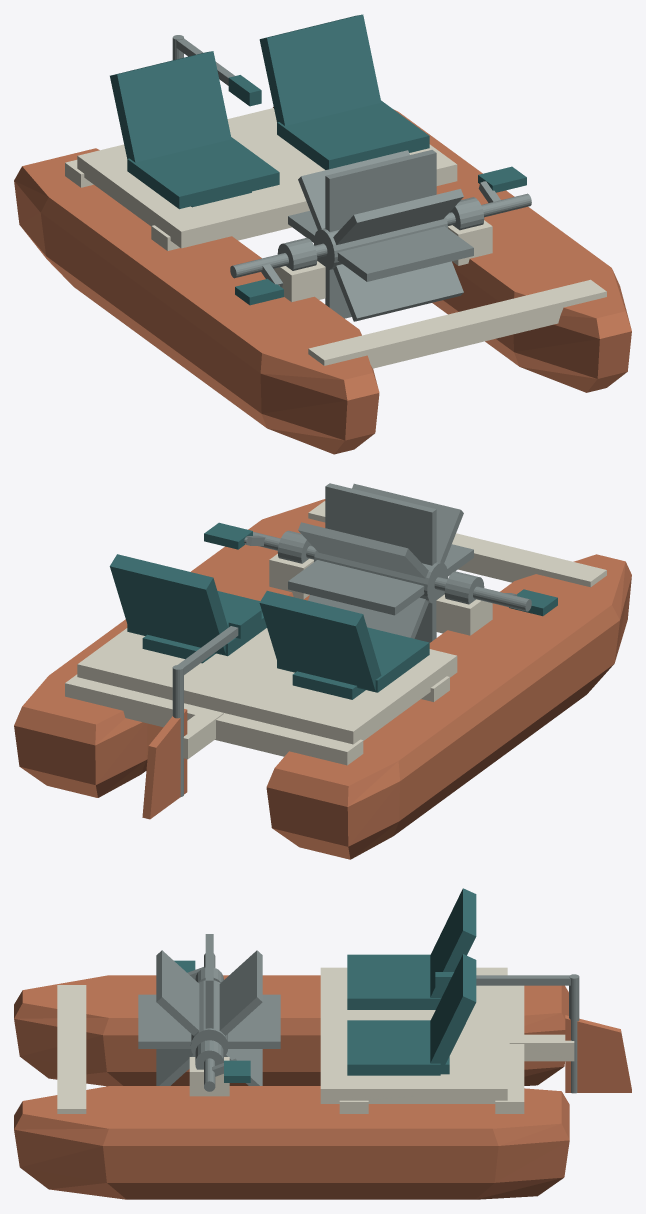
3 views of the same model, one above another, from view 1: azimuth 30°, elevation 25°; view 2: azimuth 150°, elevation 25°; view 3: azimuth 270°, elevation 25° (orthographic). The views are drawn at different scales.
Parts seen in each view (by area): view 1: WholeGroundFootPointedFloat_Left, WholeGroundFootPointedFloat_Right, WholeTwoSeatPlatform, WholeAngledSeatBack_Right, WholeAngledSeatBack_Left, WholeCrossBridge_Forward, WholeSeatPan_Left, WholeSeatPan_Right, WholeRadialPaddleBlade_2, WholeRadialPaddleBlade_5, WholeRadialPaddleBlade_4, WholeRadialPaddleBlade_3 (+12 smaller); view 2: WholeGroundFootPointedFloat_Left, WholeTwoSeatPlatform, WholeGroundFootPointedFloat_Right, WholeAngledSeatBack_Left, WholeAngledSeatBack_Right, WholeCrossBridge_Stern, WholeRadialPaddleBlade_2, WholeRadialPaddleBlade_0, WholeCrossBridge_Forward, WholeFixedSternRudderBlade, WholeRadialPaddleBlade_1, WholeSeatPan_Left (+19 smaller); view 3: WholeGroundFootPointedFloat_Right, WholeGroundFootPointedFloat_Left, WholeTwoSeatPlatform, WholeSeatPan_Right, WholeSeatPan_Left, WholeCrossBridge_Forward, WholeFixedSternRudderBlade, WholeAngledSeatBack_Right, WholeAngledSeatBack_Left, WholeRadialPaddleBlade_3, WholeRadialPaddleBlade_1, WholeCrossBridge_Stern (+12 smaller).
Boxes of the visible parts, x1,y1,x2,y2 form: WholeGroundFootPointedFloat_Left: (14,148,379,454); WholeGroundFootPointedFloat_Right: (273,107,631,392); WholeTwoSeatPlatform: (77,108,457,248); WholeAngledSeatBack_Right: (259,14,381,125); WholeAngledSeatBack_Left: (110,51,231,162); WholeCrossBridge_Forward: (308,279,606,368); WholeSeatPan_Left: (127,137,279,209); WholeSeatPan_Right: (277,100,429,169); WholeRadialPaddleBlade_2: (325,150,436,231); WholeRadialPaddleBlade_5: (333,261,463,321); WholeRadialPaddleBlade_4: (337,226,473,281); WholeRadialPaddleBlade_3: (333,189,463,244); WholeGroundFootPointedFloat_Left: (266,554,631,859); WholeTwoSeatPlatform: (77,628,457,744); WholeGroundFootPointedFloat_Right: (14,499,325,797); WholeAngledSeatBack_Left: (259,590,381,691); WholeAngledSeatBack_Right: (109,554,228,654); WholeCrossBridge_Stern: (65,674,363,765); WholeRadialPaddleBlade_2: (325,483,436,565); WholeRadialPaddleBlade_0: (288,560,424,615); WholeCrossBridge_Forward: (308,501,606,587); WholeFixedSternRudderBlade: (142,709,187,819); WholeRadialPaddleBlade_1: (298,522,428,578); WholeSeatPan_Left: (277,627,429,692); WholeGroundFootPointedFloat_Right: (14,1086,569,1199); WholeGroundFootPointedFloat_Left: (14,975,568,1086); WholeTwoSeatPlatform: (320,967,507,1103); WholeSeatPan_Right: (347,1020,440,1075); WholeSeatPan_Left: (347,954,440,1009); WholeCrossBridge_Forward: (57,985,86,1113); WholeFixedSternRudderBlade: (565,1015,631,1092); WholeAngledSeatBack_Right: (430,954,476,1073); WholeAngledSeatBack_Left: (430,888,476,999); WholeRadialPaddleBlade_3: (156,950,199,1035); WholeRadialPaddleBlade_1: (219,950,262,1035); WholeCrossBridge_Stern: (495,985,524,1113).
Size of the model in its own units: 1.68 by 0.93 by 2.78.
